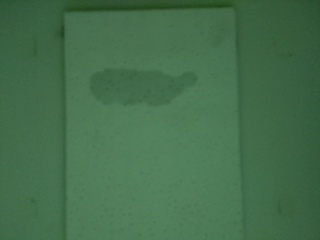Water_detected: (103, 72, 184, 113)
